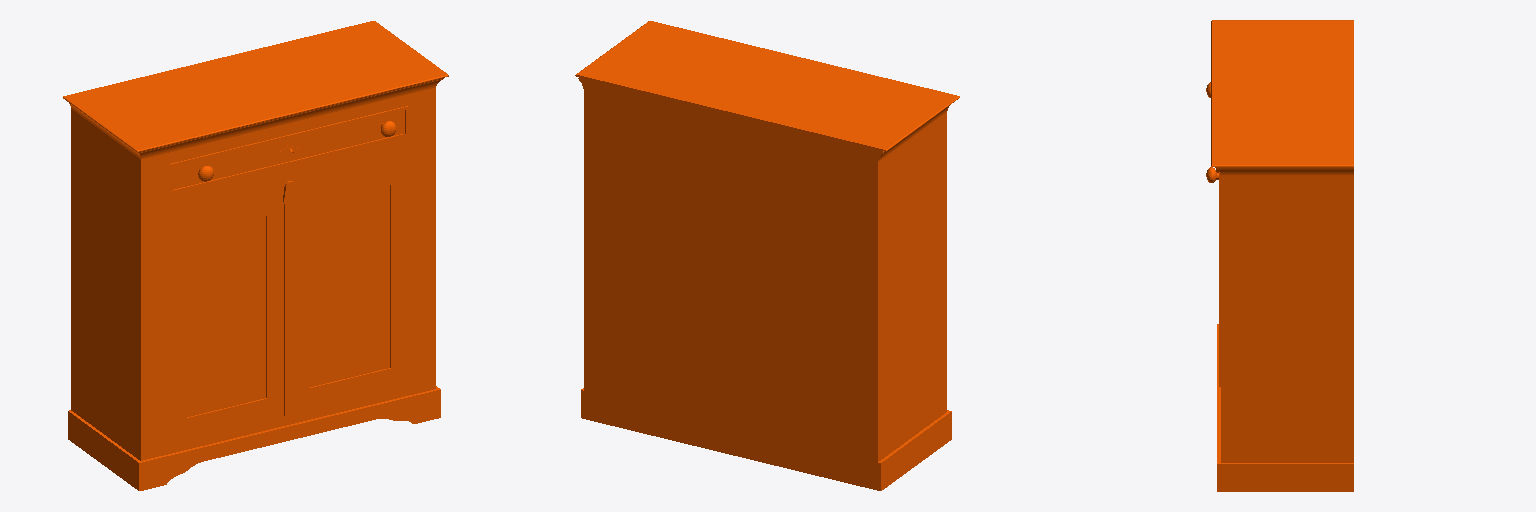
robot.urdf — Armoire_cc9381fb1feeeac9272f62bee91169ec:
<?xml version="1.0" ?>
<robot name="Armoire_cc9381fb1feeeac9272f62bee91169ec">
   <material name="obj_color">
      <color rgba="1.0 0.423529411765 0.0392156862745 1.0"/>
   </material>
   <link name="top">
      <inertial>
         <origin rpy="0.004335475257132592 0.004871163712227899 0.007906605227539189" xyz="0.0002982401300401634 0.006937728231340718 -0.01786722977291765"/>
         <mass value="1.759992459244617"/>
         <inertia ixx="0.004871163137782951" ixy="6.999098623234175e-07" ixz="-6.152345770646748e-07" iyy="0.007905755025859777" iyz="5.508989655780751e-05" izz="0.004336326033256954"/>
      </inertial>
      <visual>
         <origin rpy="0 0 0" xyz="0 0 0"/>
         <geometry>
            <mesh filename="top_watertight_tiny.stl" scale="1 1 1"/>
         </geometry>
         <material name="obj_color"/>
      </visual>
      <collision>
         <origin rpy="0 0 0" xyz="0 0 0"/>
         <geometry>
            <mesh filename="top_watertight_tiny.obj" scale="1 1 1"/>
         </geometry>
      </collision>
   </link>
   <link name="bottom">
      <inertial>
         <origin rpy="1.633333333199431e-08 1.633333333199431e-08 1.633333333362855e-08" xyz="0.3464080000000008 0.3464080000000008 0.3464080000000008"/>
         <mass value="0.0009800000000000017"/>
         <inertia ixx="1.633333333253906e-08" ixy="5.447480642029219e-19" ixz="5.447480642029219e-19" iyy="1.633333333253906e-08" iyz="5.447480642029219e-19" izz="1.633333333253906e-08"/>
      </inertial>
      <visual>
         <origin rpy="0 0 0" xyz="0 0 0"/>
         <geometry>
            <mesh filename="bottom_watertight_tiny.stl" scale="1 1 1"/>
         </geometry>
         <material name="obj_color"/>
      </visual>
   </link>
   <joint name="rotation" type="revolute">
      <origin xyz="0 0 0"/>
      <axis xyz="0 0 -1"/>
      <parent link="bottom"/>
      <child link="top"/>
      <dynamics damping="1.0" friction="1.0"/>
      <limit effort="0.1" velocity="0.1" lower="0" upper="0.001"/>
   </joint>
</robot>

--- Facts derived from the render (not from the file) ---
Views: 3 orthographic renders of the robot side by side, from view 1: azimuth 30°, elevation 25°; view 2: azimuth 150°, elevation 25°; view 3: azimuth 270°, elevation 25°.
Model Armoire_cc9381fb1feeeac9272f62bee91169ec with 2 links and 1 joints (1 revolute), rooted at bottom, posed all joints at 0.
Links seen in each view (by area): view 1: top; view 2: top; view 3: top.
Link boxes in pixels (x1,y1,x2,y2): top: (63, 21, 448, 490); top: (575, 21, 959, 490); top: (1206, 20, 1353, 491).
Size in the robot's own frame: 0.1616 by 0.0691 by 0.17 metres.
Meshes: 2 distinct files referenced, 1 mesh visuals loaded (1 binary STL); not drawn: 1 (reference not matched to a file when rendering).
